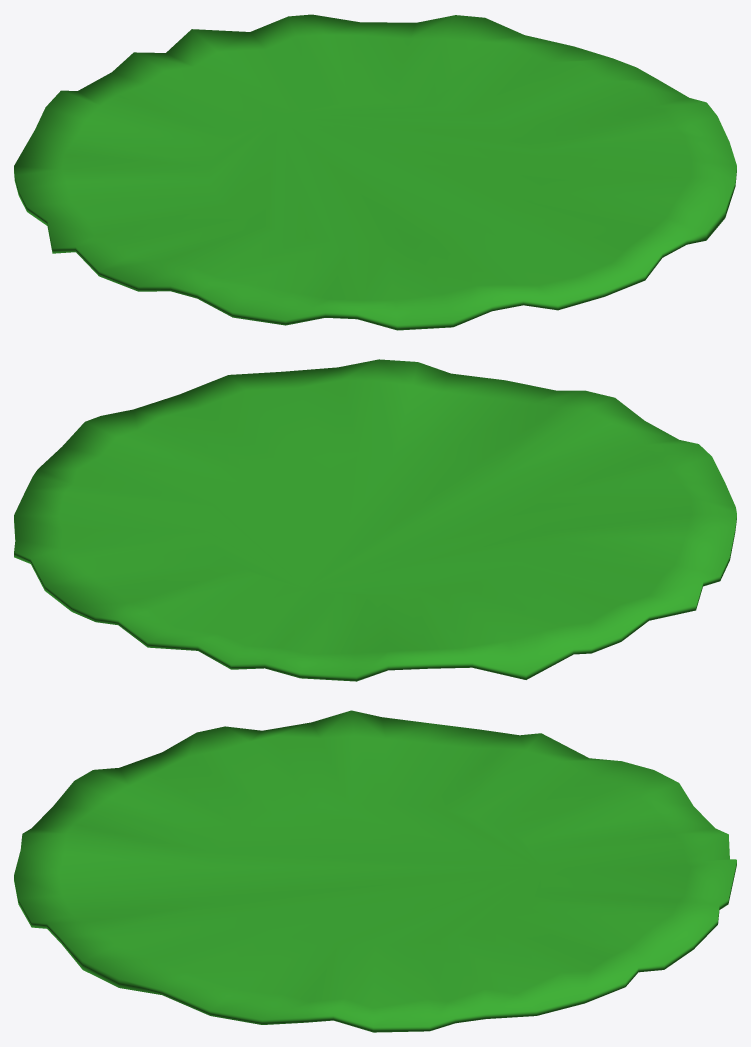
Rendered from SM_Lettuce.fbx.
3 renders of one model, top to bottom at view 1: azimuth 30°, elevation 25°; view 2: azimuth 150°, elevation 25°; view 3: azimuth 270°, elevation 25°, orthographic.
Visible parts, largest first — view 1: SM_Lettuce; view 2: SM_Lettuce; view 3: SM_Lettuce.
Part boxes in pixels (<box>): SM_Lettuce: <box>14,14,736,330</box>; SM_Lettuce: <box>14,359,736,681</box>; SM_Lettuce: <box>14,710,736,1032</box>.
Size of the model in its own units: 21.2 by 0.8936 by 20.94.
